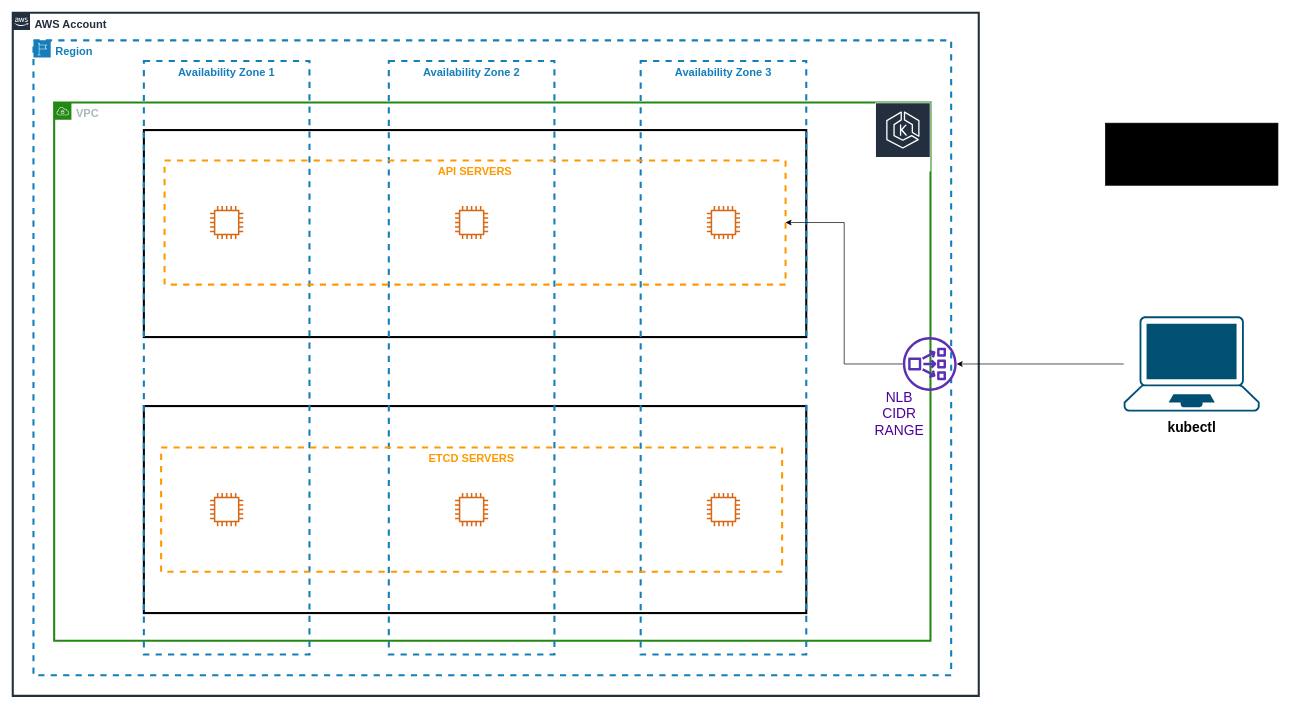
The diagram is 1290 pixels wide and 709 high, and some of its shapes have lost their labels. Each missing label, with the centre of its shape:
Amazon EKS: the point at 902,136
Endpoint Public Access: the point at 1191,153
